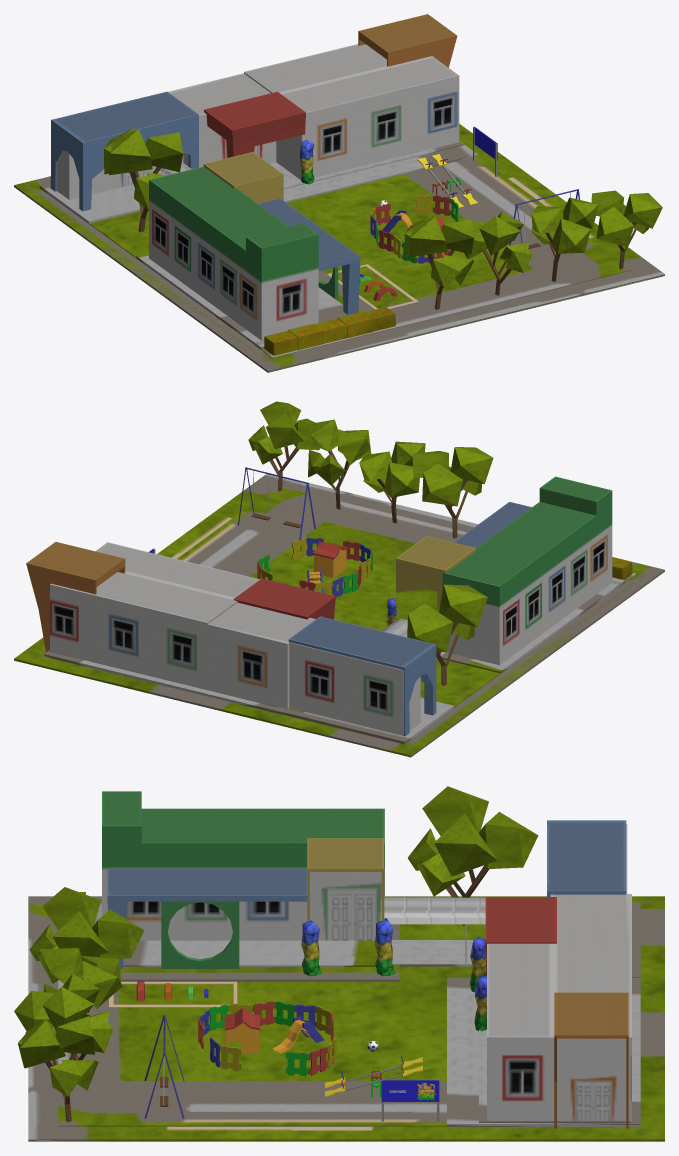
The model's file is CasaMaeEvoluçãoAltaLOD0.fbx.
3 renders of one model, top to bottom at view 1: azimuth 30°, elevation 25°; view 2: azimuth 150°, elevation 25°; view 3: azimuth 270°, elevation 25°, orthographic. The views are drawn at different scales.
Parts seen in each view (by area): view 1: Casa Mae Evolucao Alto; view 2: Casa Mae Evolucao Alto; view 3: Casa Mae Evolucao Alto.
Part boxes in pixels (x1,y1,x2,y2): Casa Mae Evolucao Alto: (14, 14, 664, 372); Casa Mae Evolucao Alto: (14, 401, 664, 757); Casa Mae Evolucao Alto: (14, 786, 664, 1141).
Bounding box in the file's own units: 3799 × 999 × 4278.
1 material, 1 textured.
